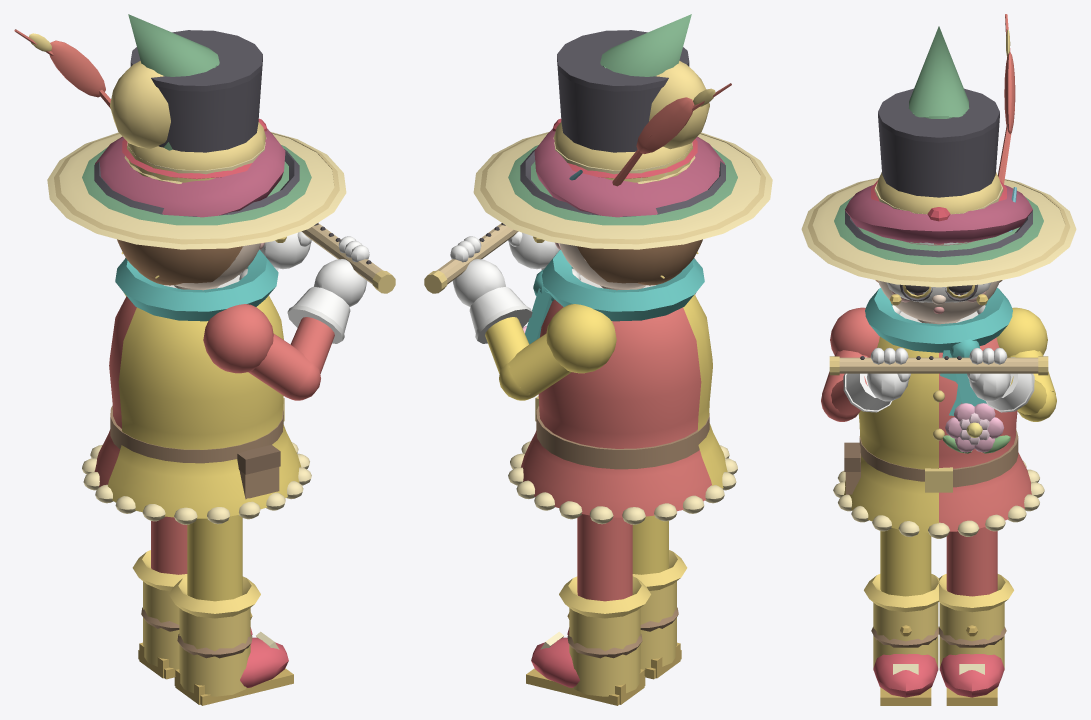
3 renders of one model, left to right at view 1: azimuth 30°, elevation 25°; view 2: azimuth 150°, elevation 25°; view 3: azimuth 270°, elevation 25°, orthographic. The views are drawn at different scales.
Visible parts, largest first — view 1: piper, hat_straw, shoes_gold, hat_top, hat_feather, hat_doge, hat_beret, acc_scarf, gloves, shoes_red; view 2: piper, hat_straw, shoes_gold, hat_top, hat_feather, hat_beret, acc_scarf, hat_doge, gloves, shoes_red; view 3: piper, hat_top, hat_straw, shoes_gold, hat_feather, acc_scarf, hat_beret, gloves, shoes_red, hat_doge, acc_flower, acc_mask.
Boxes of the visible parts, x1,y1,x2,y2 form: piper: (82,223,395,658); hat_straw: (47,132,346,249); shoes_gold: (132,550,293,705); hat_top: (94,30,299,216); hat_feather: (14,14,311,225); hat_doge: (110,61,266,182); hat_beret: (95,128,285,217); acc_scarf: (115,250,278,321); gloves: (260,231,369,343); shoes_red: (240,627,288,687); piper: (424,223,737,658); hat_straw: (473,132,772,249); shoes_gold: (526,550,687,705); hat_top: (520,30,725,216); hat_feather: (508,14,737,225); hat_beret: (534,128,724,217); acc_scarf: (525,250,704,344); hat_doge: (553,61,709,182); gloves: (450,231,559,343); shoes_red: (531,627,579,687); piper: (821,280,1056,647); hat_top: (845,88,1032,257); hat_straw: (801,178,1076,287); shoes_gold: (864,574,1013,705); hat_feather: (834,14,1043,264); acc_scarf: (865,287,1012,415); hat_beret: (845,185,1032,245); gloves: (843,347,1034,412); shoes_red: (873,654,1004,697); hat_doge: (871,172,1006,244); acc_flower: (943,403,1010,453); acc_mask: (886,187,1016,305).
Bounding box in the file's own units: 0.5903 × 1.35 × 0.54.
